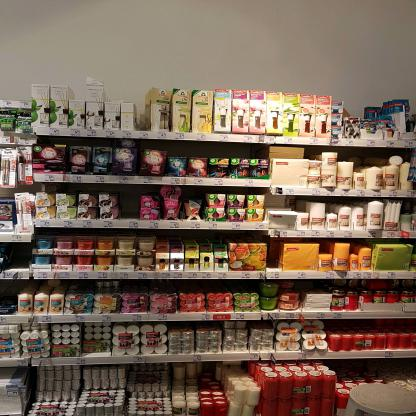Void: (172, 140, 268, 160), (329, 320, 414, 336), (338, 146, 388, 164), (118, 184, 139, 218), (5, 245, 30, 270), (267, 195, 307, 210), (1, 282, 17, 312), (266, 239, 282, 267), (320, 238, 332, 255)
